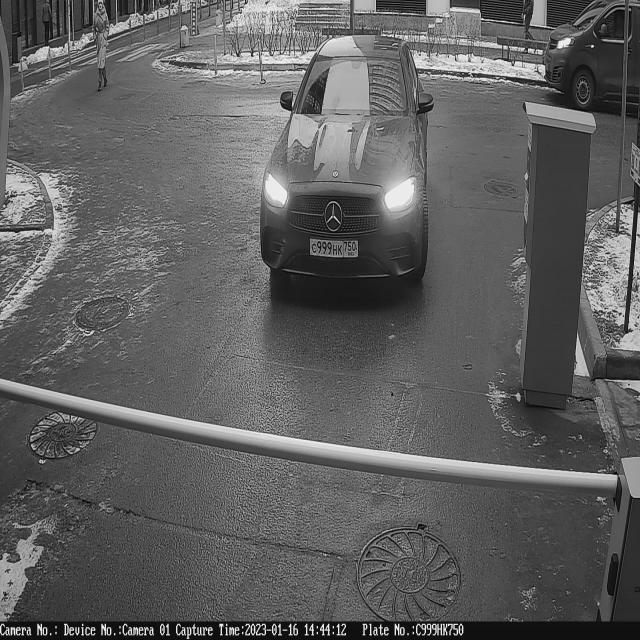car-plate-numbers: (308, 235, 364, 266)
